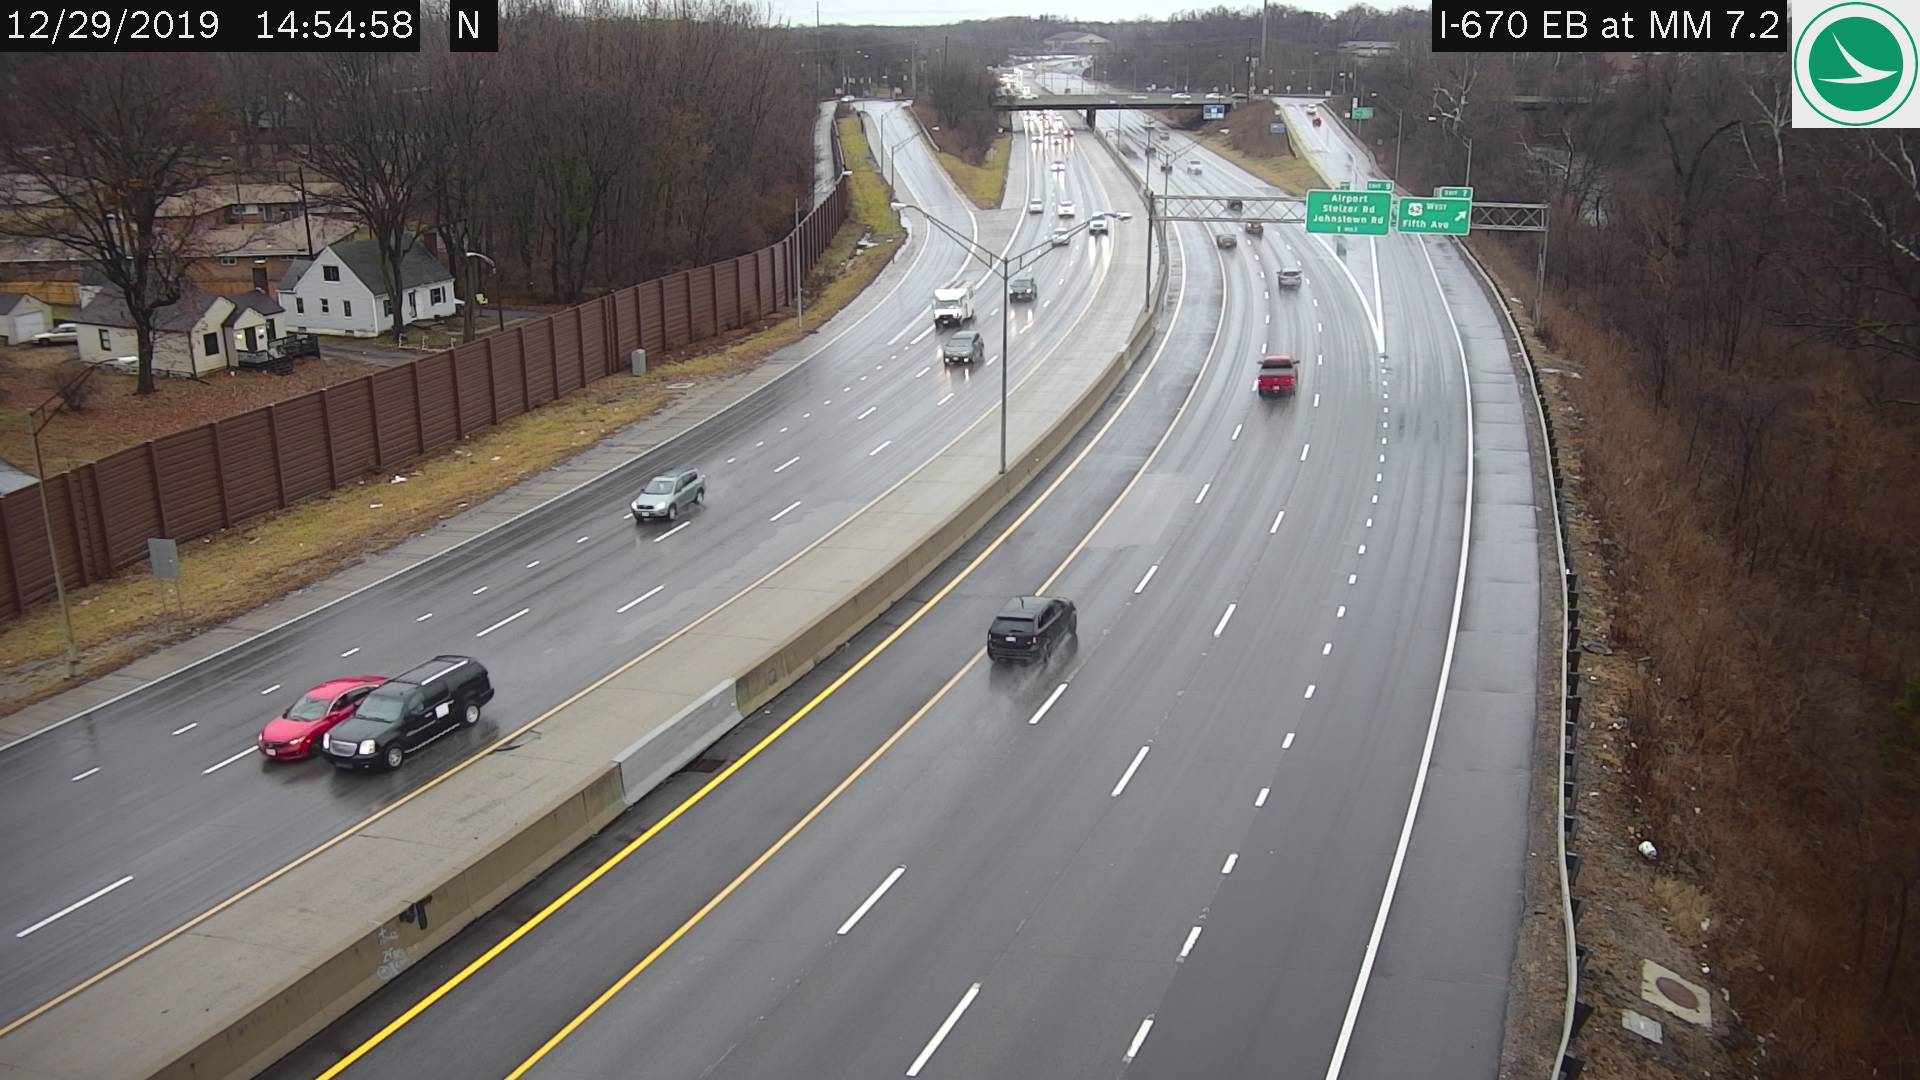car: (326, 651, 495, 771), (266, 676, 378, 760), (986, 592, 1073, 669), (630, 468, 705, 524), (934, 284, 975, 324), (1258, 356, 1298, 396), (942, 332, 982, 368), (1006, 276, 1034, 305), (1278, 264, 1302, 287), (1215, 228, 1234, 248), (1087, 210, 1106, 229), (1244, 218, 1266, 235), (1051, 227, 1068, 245), (1056, 200, 1073, 218), (1026, 195, 1043, 212)
